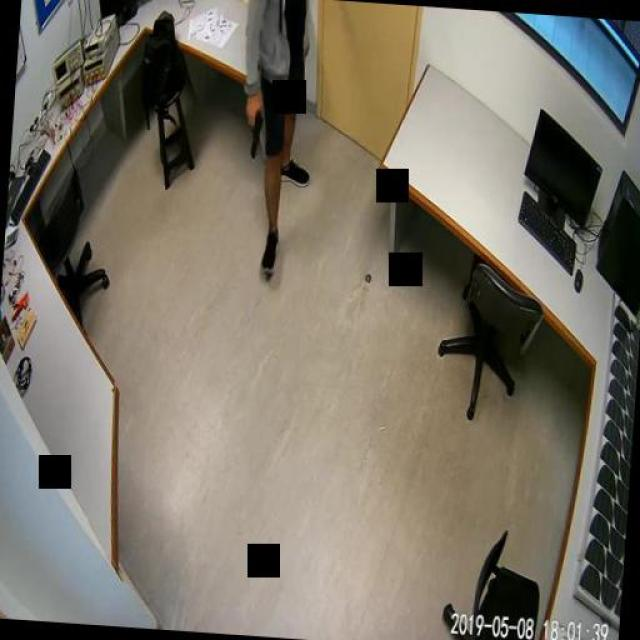gun: (242, 109, 262, 158)
